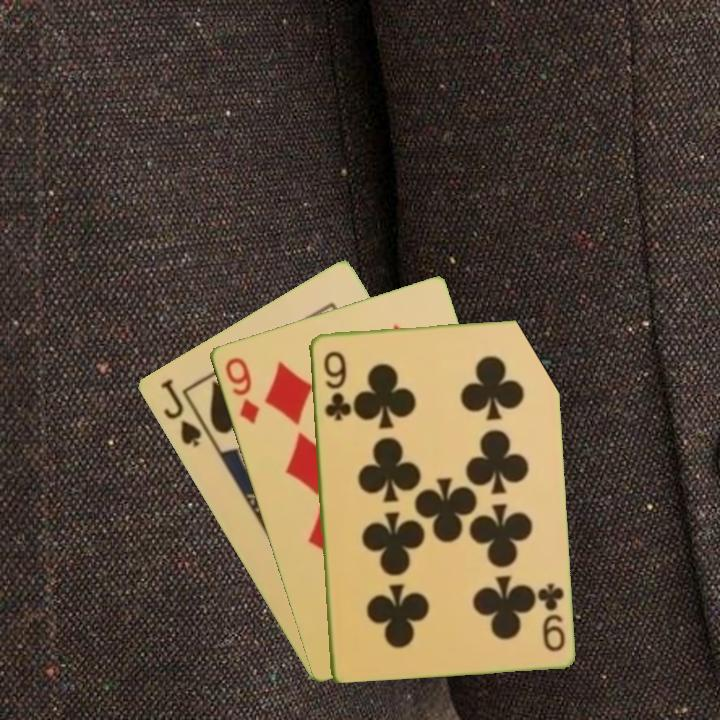9c: (533, 579, 568, 654), (320, 347, 350, 424)
9d: (221, 353, 262, 427)
Js: (156, 375, 204, 450)
